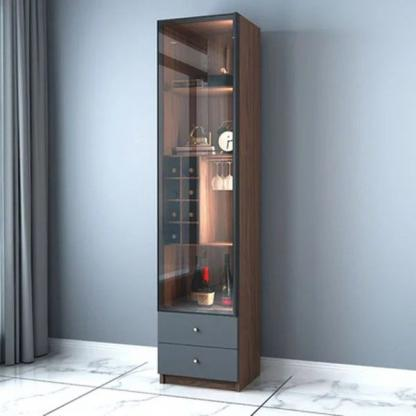Cupboard: (157, 12, 262, 392)
